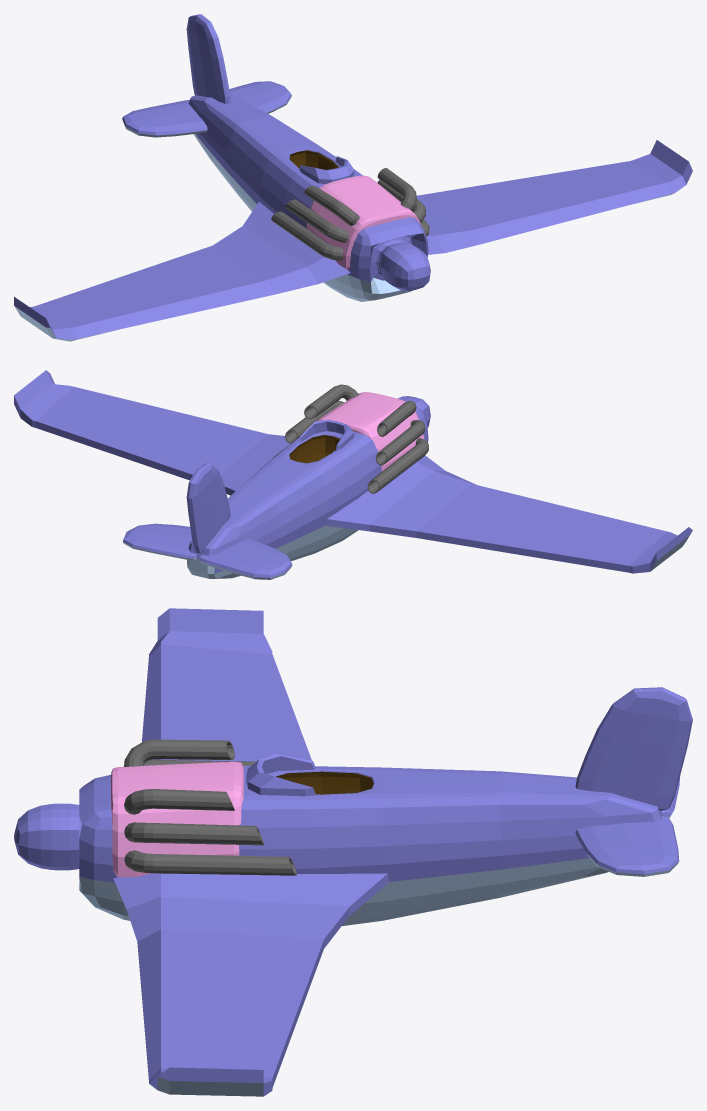
Rendered from BIG_BOY.fbx.
3 views of the same model, one above another, from view 1: azimuth 30°, elevation 25°; view 2: azimuth 150°, elevation 25°; view 3: azimuth 270°, elevation 25° (orthographic). The views are drawn at different scales.
Parts seen in each view (by area): view 1: Cube.031, Cylinder.006, Cube.032; view 2: Cube.031, Cylinder.006, Cube.032; view 3: Cube.031, Cylinder.006, Cube.032.
Boxes of the visible parts, <box> form: Cube.031: <box>14,14,692,341</box>; Cylinder.006: <box>271,168,429,260</box>; Cube.032: <box>306,175,421,270</box>; Cube.031: <box>14,370,692,579</box>; Cylinder.006: <box>272,384,428,493</box>; Cube.032: <box>318,392,424,471</box>; Cube.031: <box>14,608,692,1096</box>; Cylinder.006: <box>124,739,296,875</box>; Cube.032: <box>111,761,243,877</box>.
Bounding box in the file's own units: 514 × 192 × 823.
